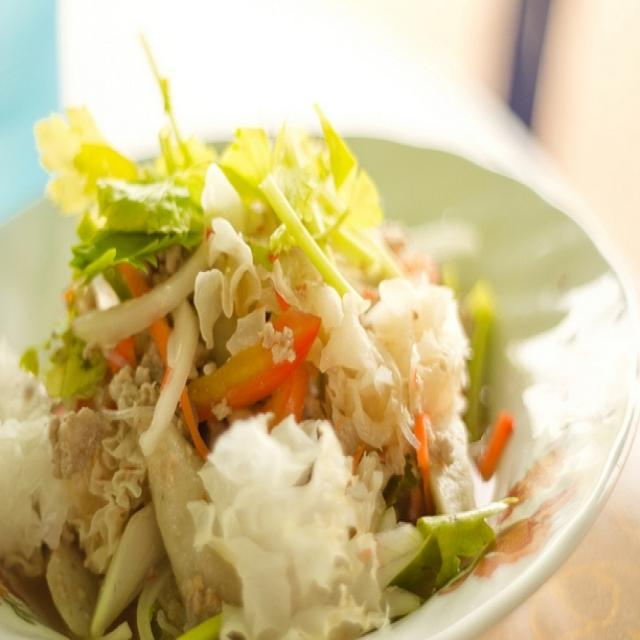蔬菜料理: (16, 28, 610, 615)
